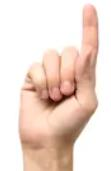up: (11, 1, 103, 143)
